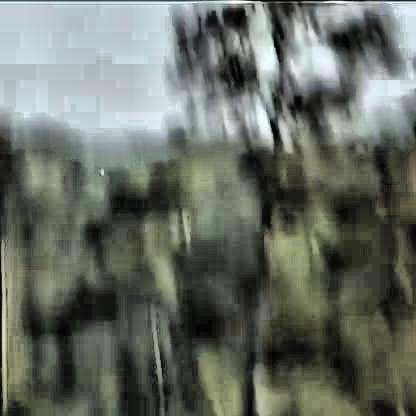golfball: (96, 161, 101, 171)
